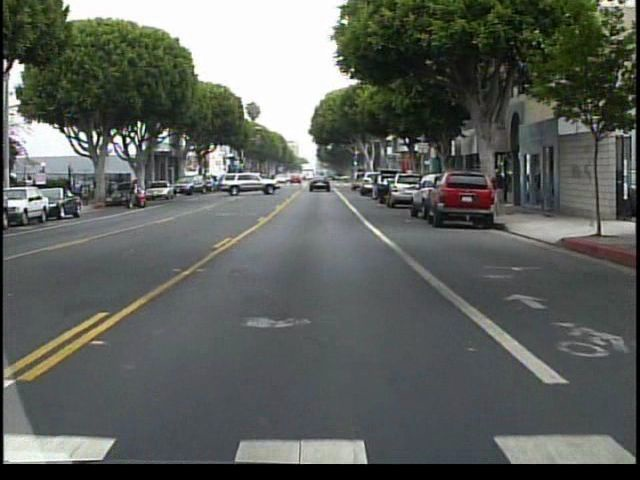person: (130, 178, 149, 210)
